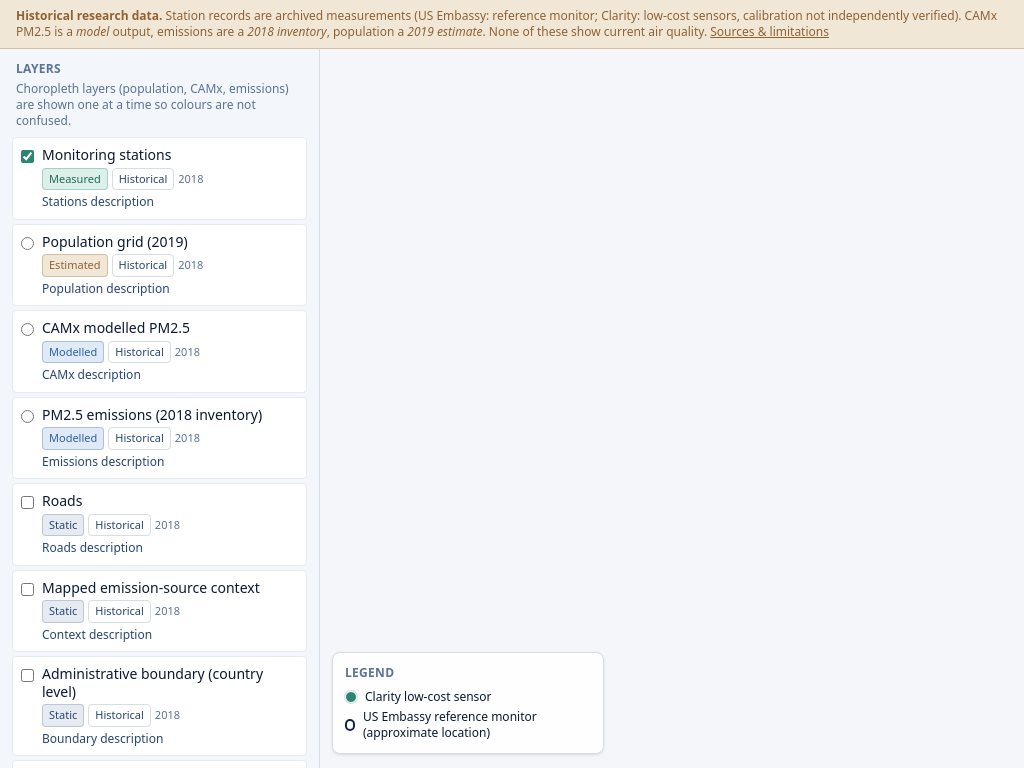
Test: AirQualityMap page › opens the sources dialog with the presentation rules
Click the button "Sources & limitations" at (770, 32), box [710,24,829,40]
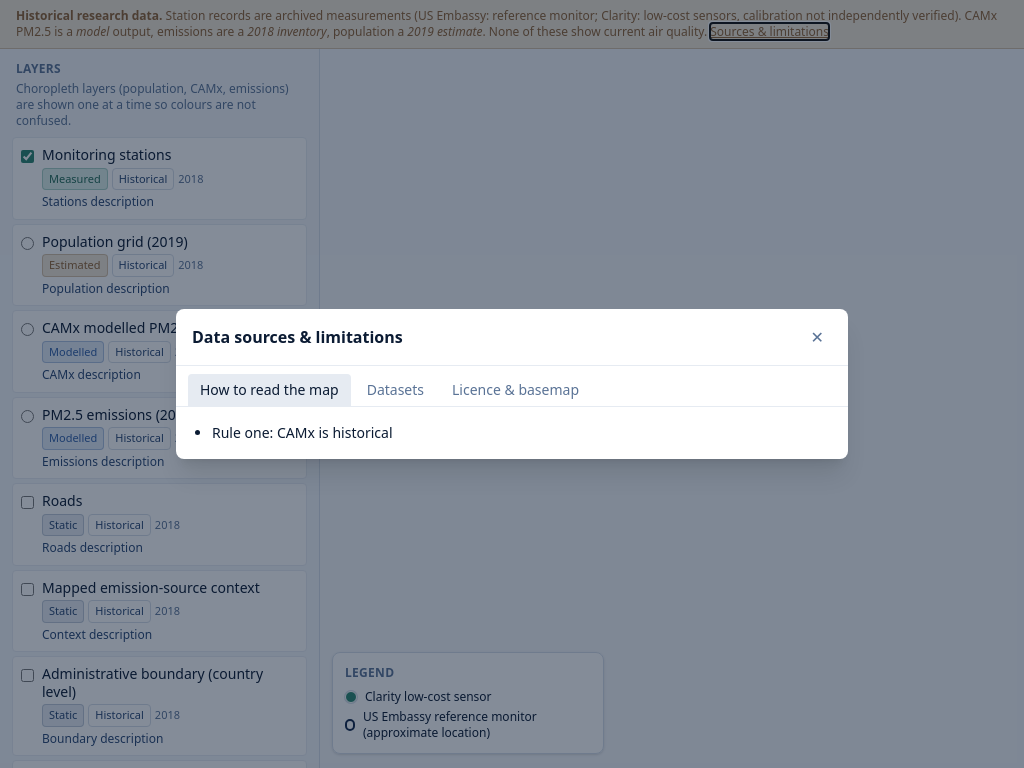
Now the list item "Rule one: CAMx is historical" is shown, box [212,423,392,442]
Click the button "Datasets" at (395, 390), box [355,374,436,406]
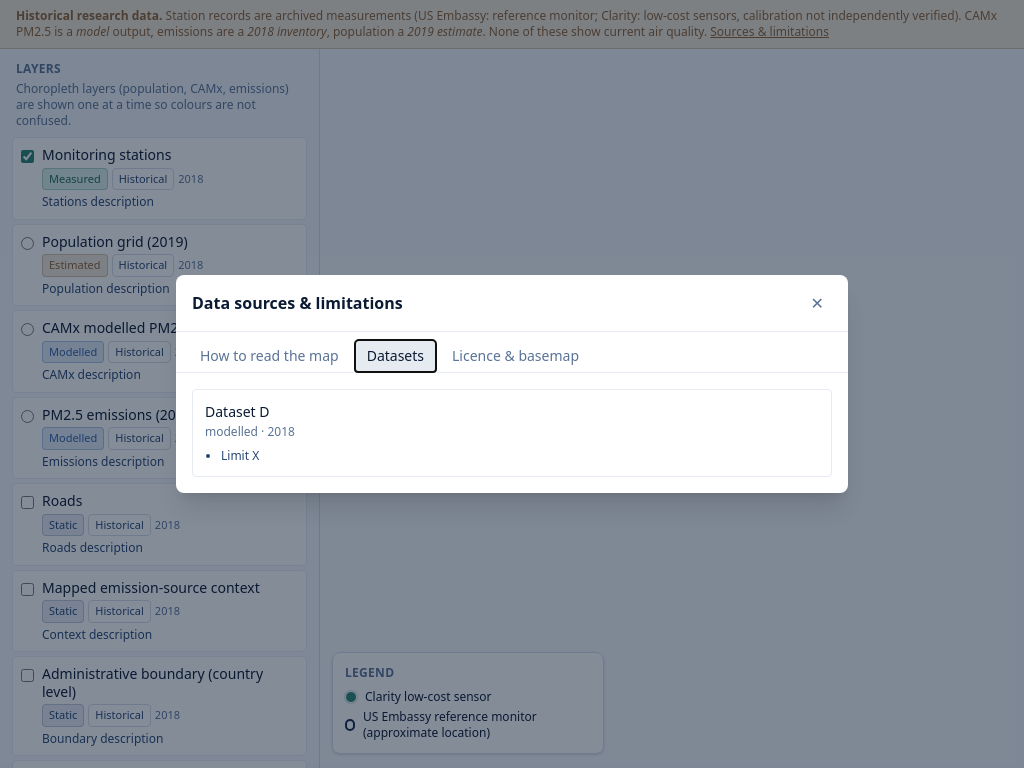
Now the list item "Limit X" is shown, box [221,447,259,464]
